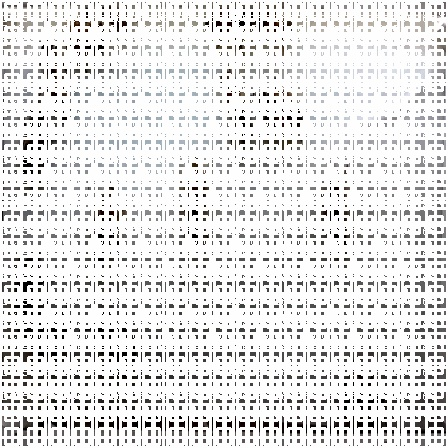bee: (166, 147, 222, 261), (81, 297, 154, 383), (75, 176, 133, 279), (307, 164, 365, 267), (24, 23, 80, 128), (205, 65, 260, 159), (327, 362, 400, 432), (250, 76, 312, 157), (14, 96, 60, 195), (21, 300, 79, 376), (57, 6, 116, 78), (5, 246, 50, 336), (256, 3, 307, 70), (199, 3, 258, 56)
